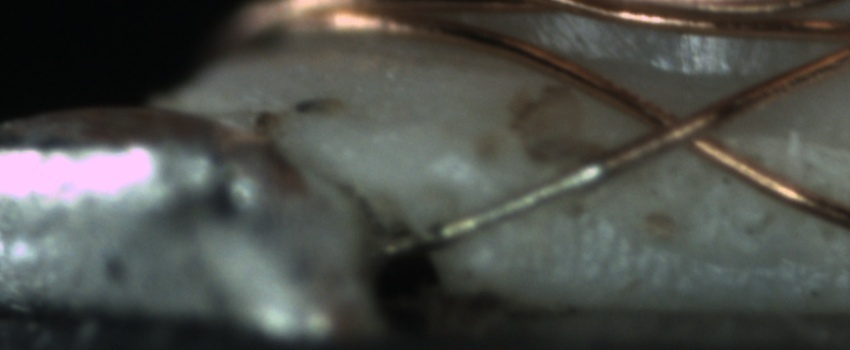CL: (630, 93, 734, 163)
TS: (380, 160, 608, 261)
TTCW: (384, 138, 655, 256)
